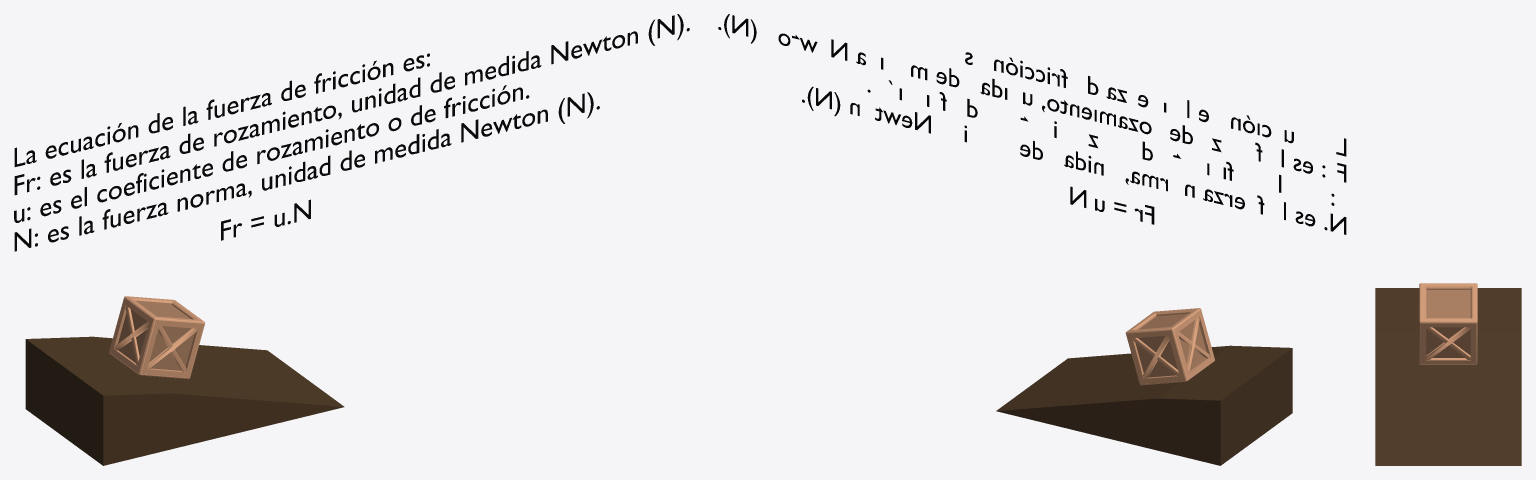
The model's file is Friccion_formulas.fbx.
3 views of the same model, side by side, from view 1: azimuth 30°, elevation 25°; view 2: azimuth 150°, elevation 25°; view 3: azimuth 270°, elevation 25° (orthographic). The views are drawn at different scales.
Visible parts, largest first — view 1: Cube, Text.001, Crate; view 2: Cube, Text.001, Crate; view 3: Cube, Crate.
Boxes of the visible parts, x1,y1,x2,y2 form: Cube: (25, 336, 344, 465); Text.001: (14, 14, 689, 251); Crate: (109, 296, 204, 379); Cube: (996, 345, 1292, 465); Text.001: (718, 14, 1346, 234); Crate: (1125, 308, 1214, 385); Cube: (1375, 288, 1521, 465); Crate: (1419, 283, 1477, 364).
Bounding box in the file's own units: 2517 × 1155 × 500.
